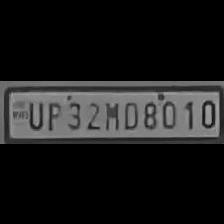0: (196, 95, 218, 127), (158, 97, 178, 128)
1: (178, 97, 196, 128)
2: (83, 97, 101, 129)
3: (62, 97, 82, 129)
8: (140, 97, 158, 129)
D: (120, 97, 138, 129)
M: (102, 97, 120, 129)
P: (44, 98, 61, 130)
U: (24, 97, 43, 129)
